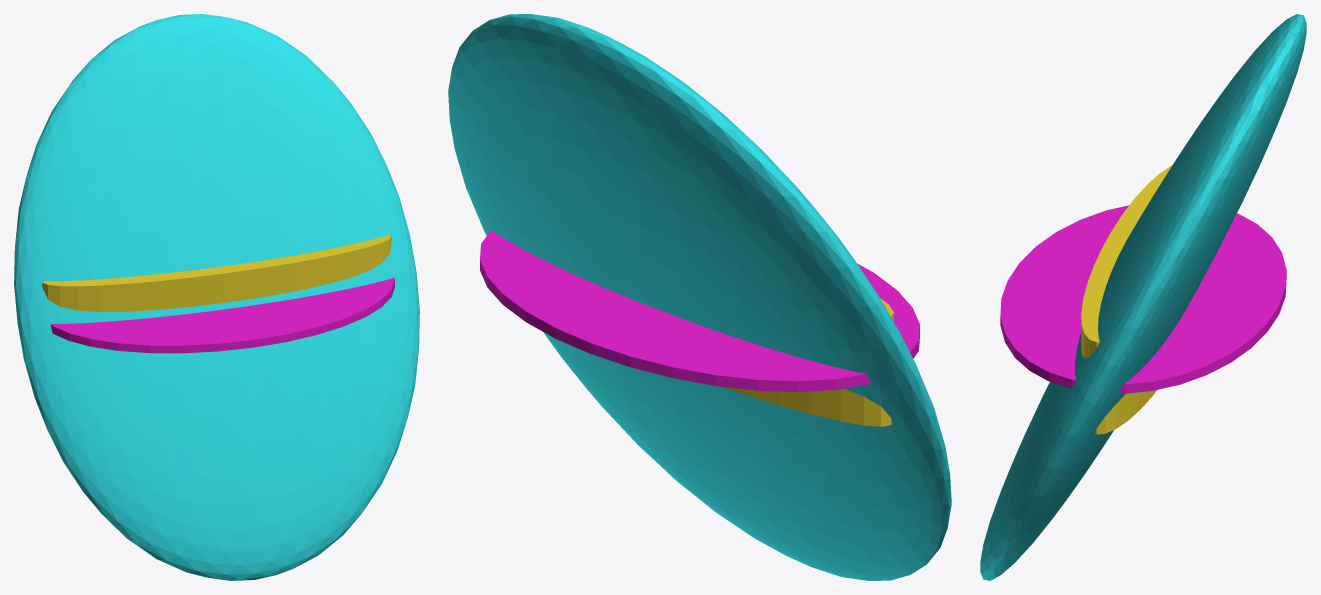
Rendered from 3d_ellipses.glb.
The picture shows the model from 3 angles, left to right: view 1: azimuth 30°, elevation 25°; view 2: azimuth 150°, elevation 25°; view 3: azimuth 270°, elevation 25°; orthographic projection. The views are drawn at different scales.
Parts seen in each view (by area): view 1: Icosphere, Circle, Circle.001; view 2: Icosphere, Circle, Circle.001; view 3: Icosphere, Circle, Circle.001.
Part boxes in pixels (left/top/right/bottom): Icosphere: left=14, top=14, right=419, bottom=580; Circle: left=50, top=278, right=394, bottom=353; Circle.001: left=42, top=234, right=391, bottom=312; Icosphere: left=448, top=14, right=951, bottom=580; Circle: left=480, top=230, right=919, bottom=391; Circle.001: left=721, top=298, right=893, bottom=426; Icosphere: left=980, top=14, right=1306, bottom=580; Circle: left=1000, top=205, right=1286, bottom=393; Circle.001: left=1081, top=165, right=1172, bottom=434.
Size of the model in its own units: 23.82 by 29.41 by 15.68.
